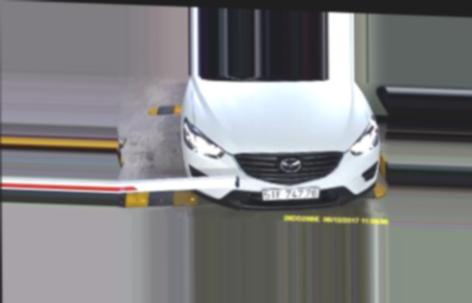License_Plate: (261, 186, 319, 202)
